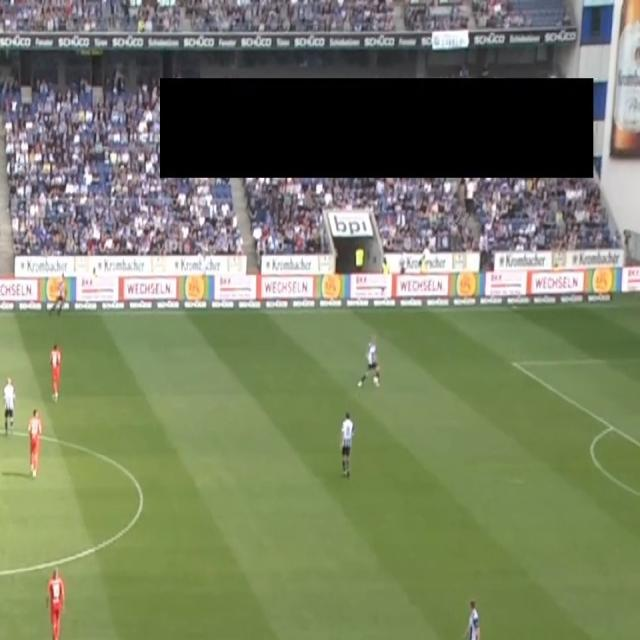ball: (373, 374, 379, 386)
